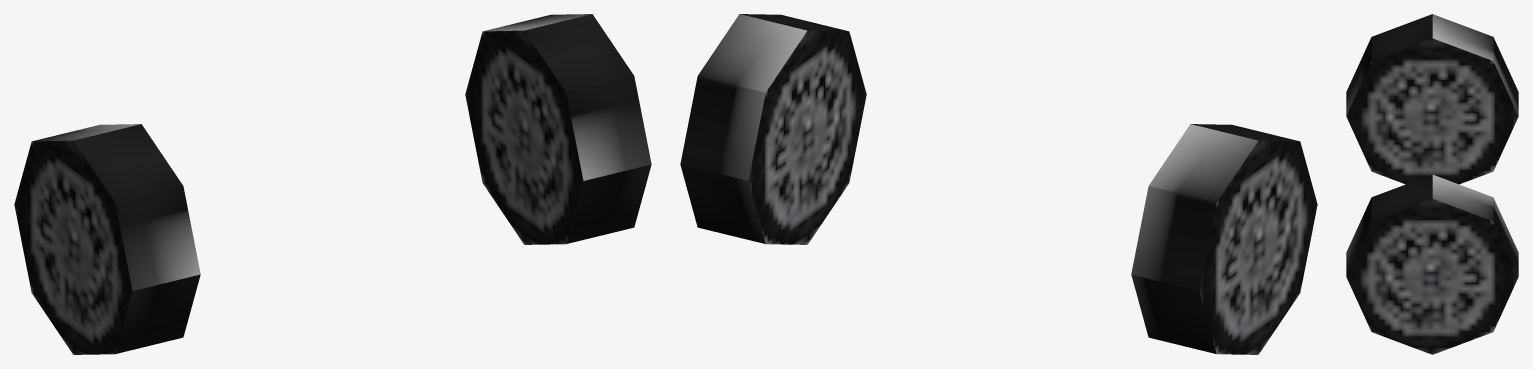
The model's file is bmw_e30_wheels_f.obj.
3 renders of one model, left to right at view 1: azimuth 30°, elevation 25°; view 2: azimuth 150°, elevation 25°; view 3: azimuth 270°, elevation 25°, orthographic. The views are drawn at different scales.
Parts seen in each view (by area): view 1: bmw_e30_wheels_f; view 2: bmw_e30_wheels_f; view 3: bmw_e30_wheels_f.
Boxes of the visible parts, x1=… form: bmw_e30_wheels_f: x1=14, y1=14, x2=651, y2=354; bmw_e30_wheels_f: x1=680, y1=14, x2=1317, y2=354; bmw_e30_wheels_f: x1=1346, y1=14, x2=1518, y2=354.
Size of the model in its own units: 1.63 by 0.645 by 0.645.
Materials: 1 (1 with a texture image).
